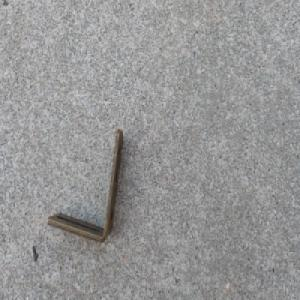MetalPart: (45, 122, 124, 240)
